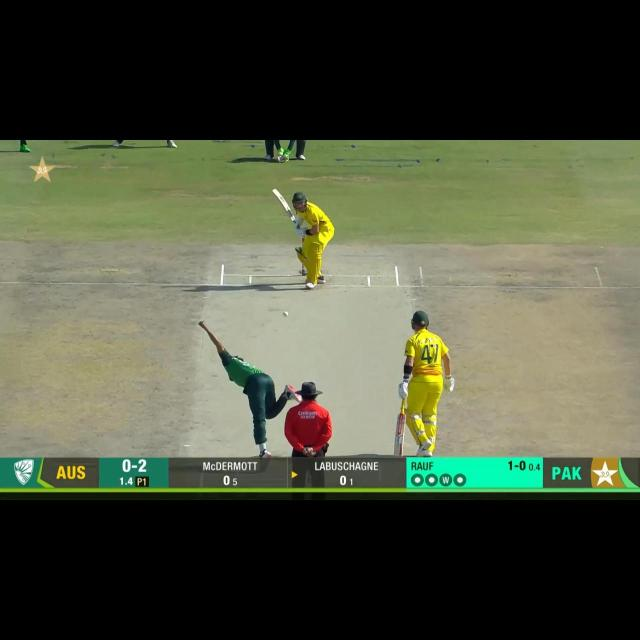bat: (270, 187, 297, 222), (392, 414, 409, 456)
toe: (392, 448, 406, 457), (270, 187, 280, 197)
